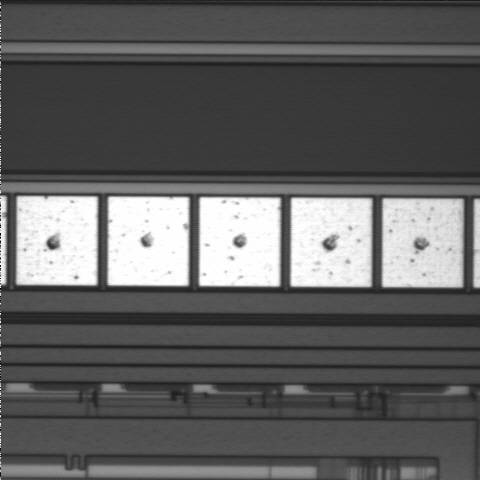pad: (17, 196, 98, 285), (108, 197, 189, 286), (199, 197, 280, 286), (291, 198, 372, 287), (382, 199, 463, 287)
